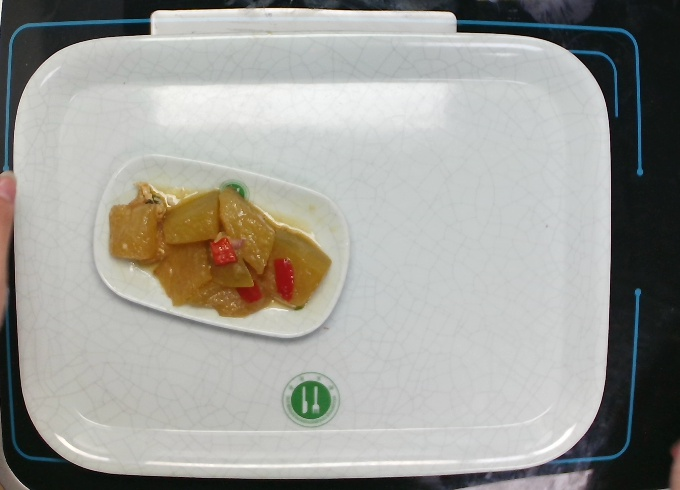WCQzf-Tuo_Yuan_Pan: (90, 149, 353, 341)
